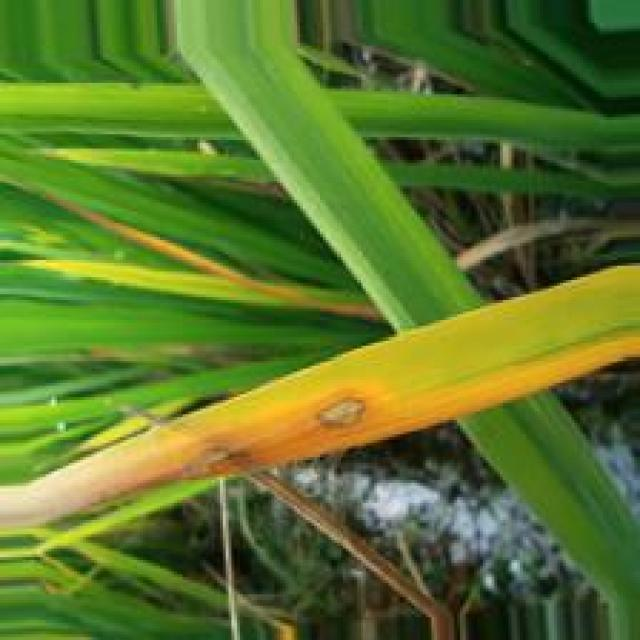Leaf_Blast: (0, 337, 640, 538)
